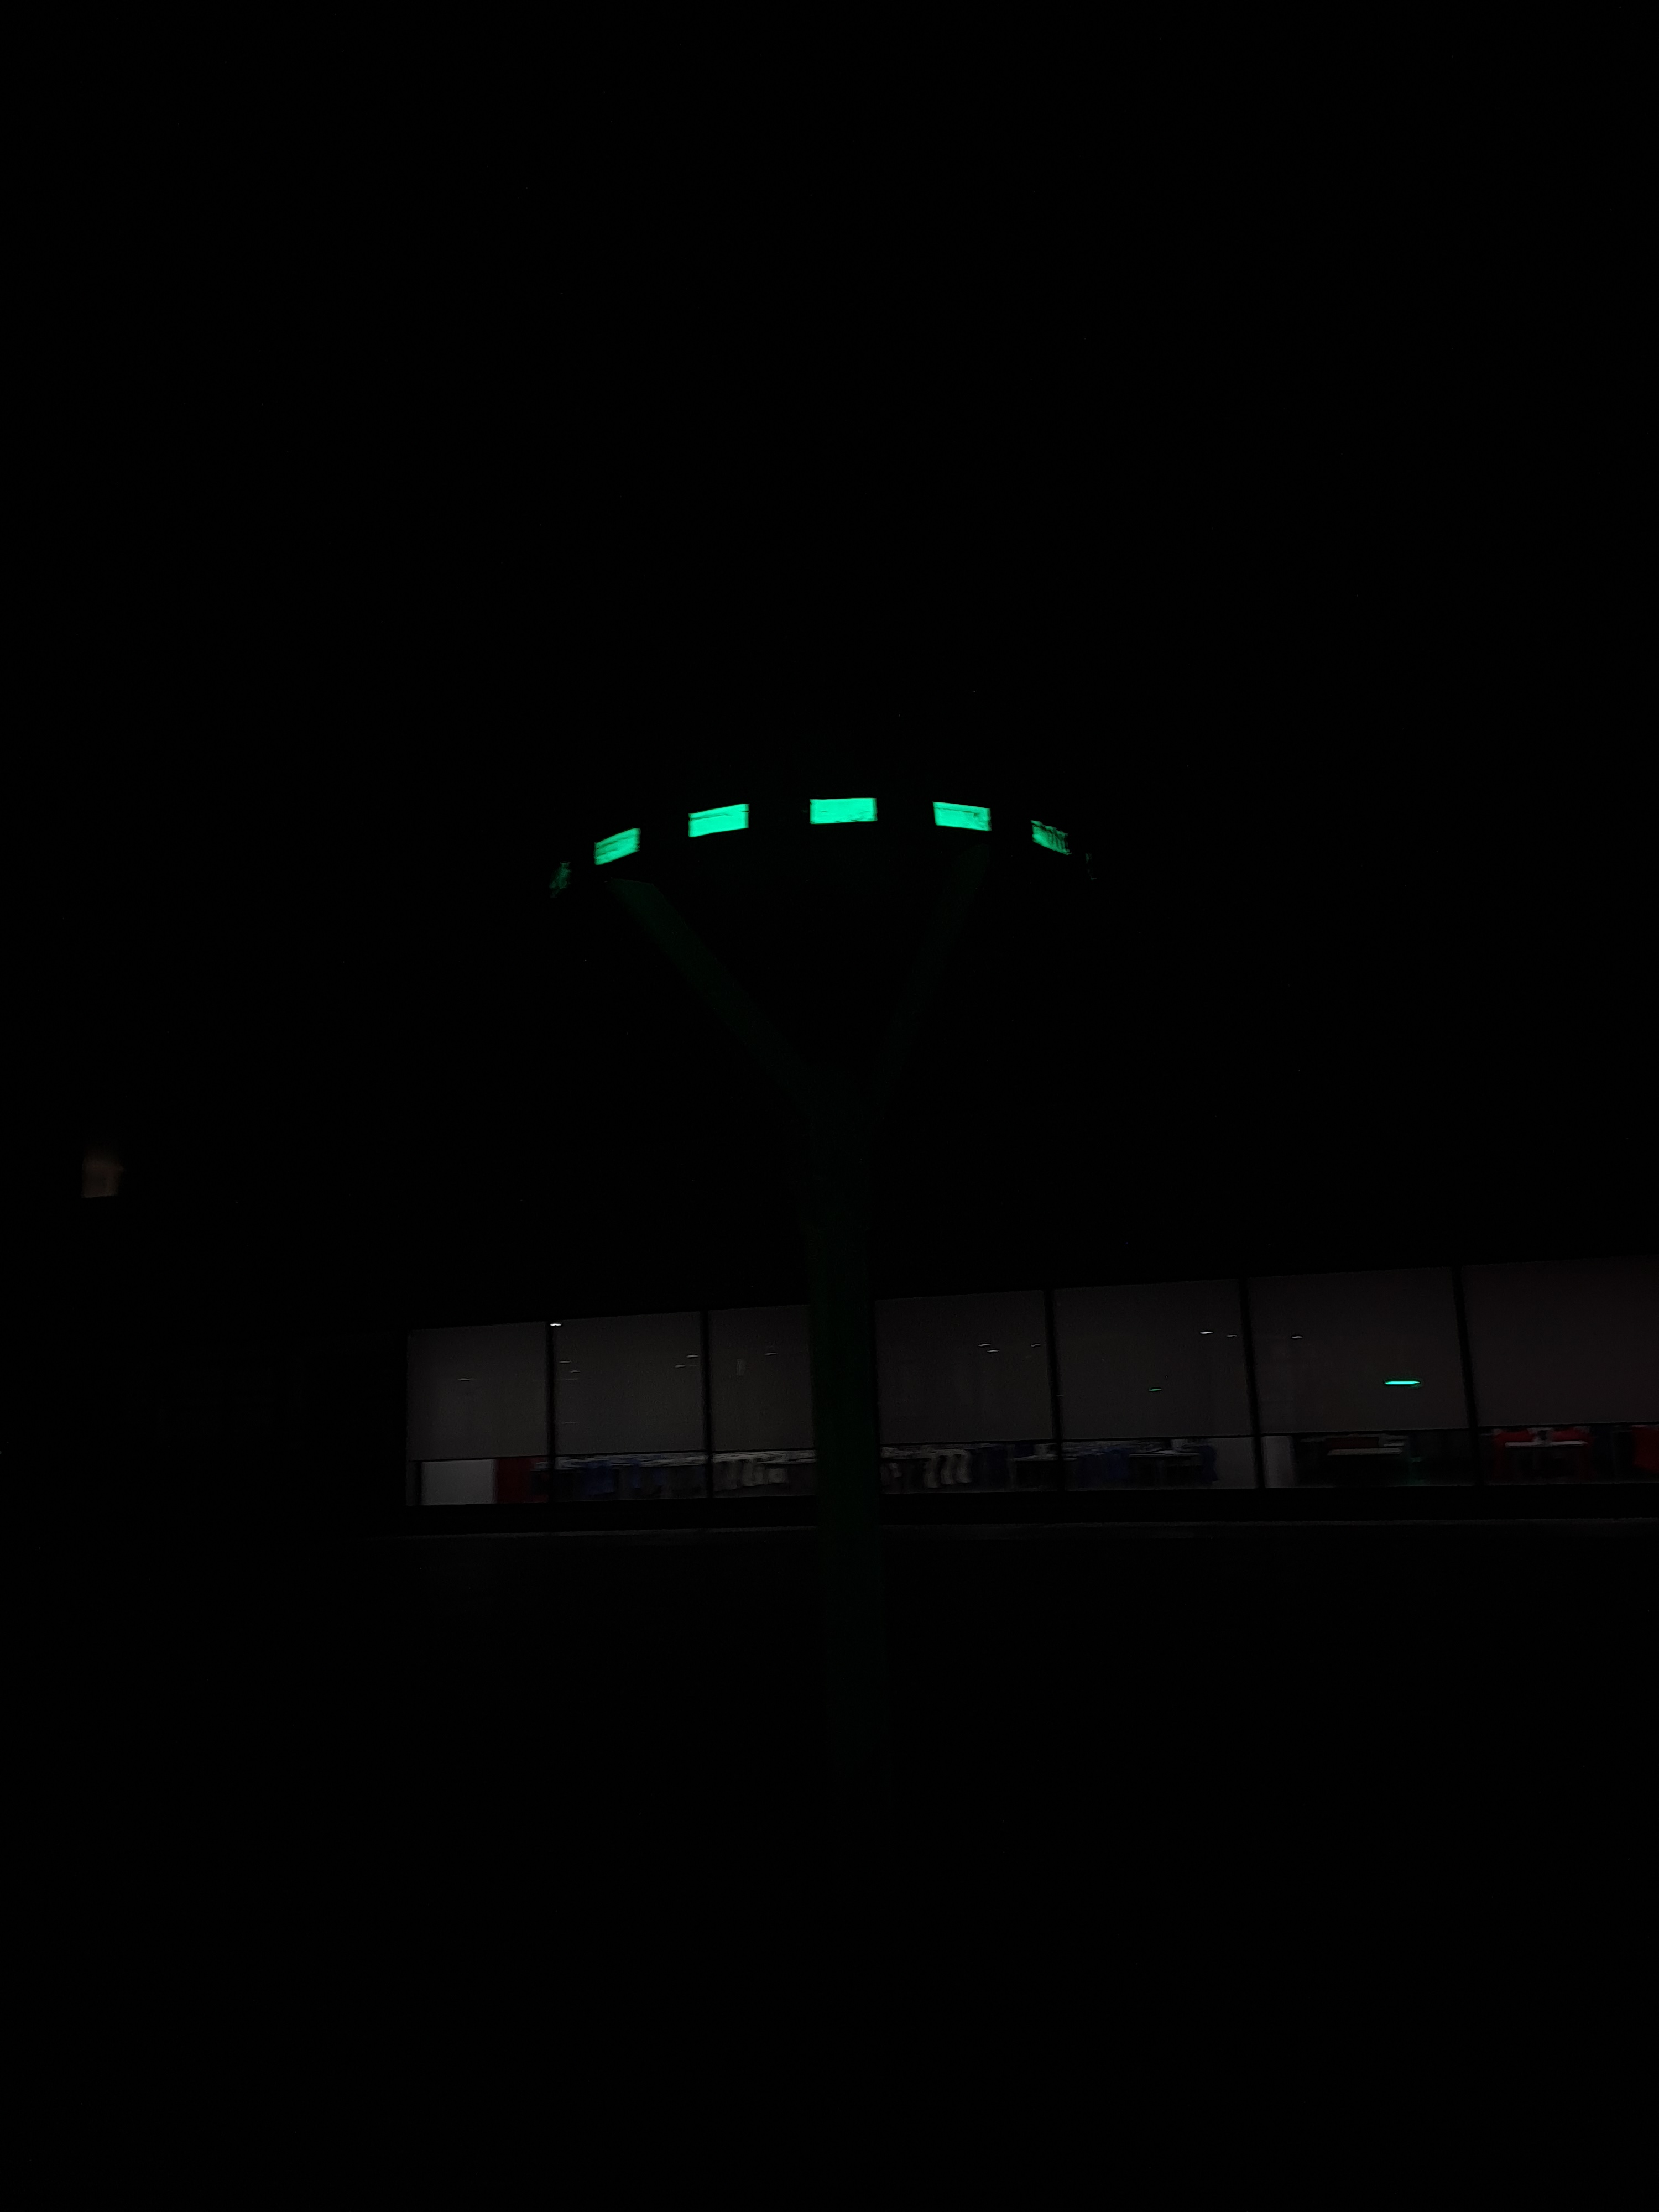hoop: (582, 796, 1072, 869)
